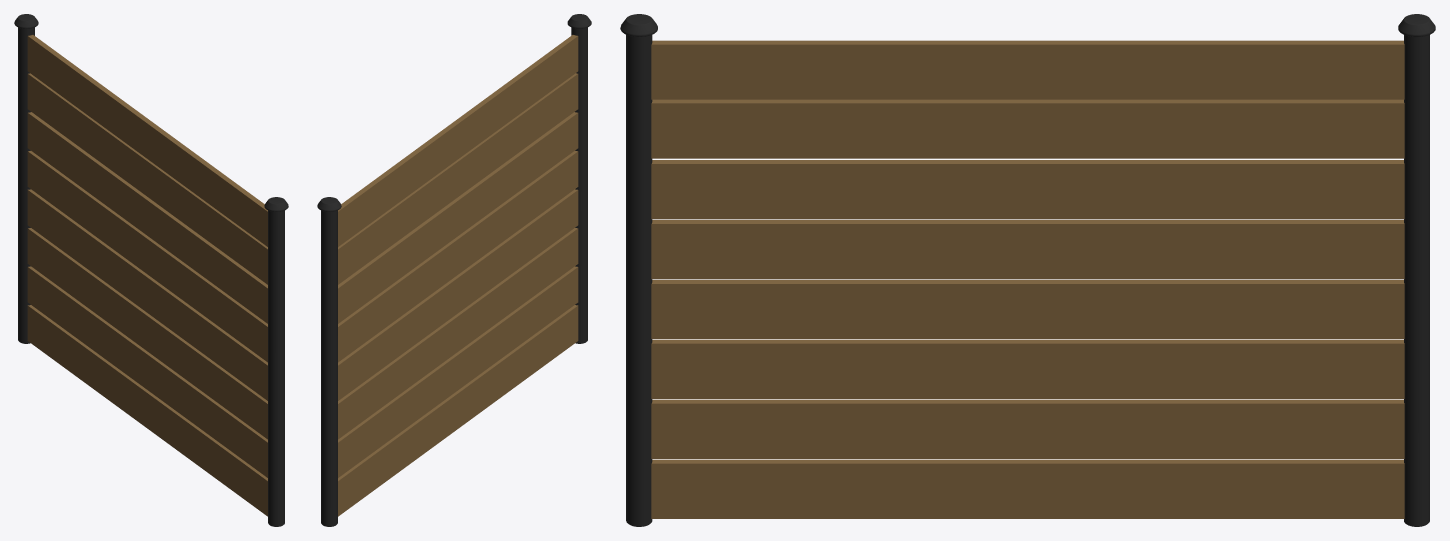
Rendered from Fence.fbx.
3 renders of one model, left to right at view 1: azimuth 30°, elevation 25°; view 2: azimuth 150°, elevation 25°; view 3: azimuth 270°, elevation 25°, orthographic. The views are drawn at different scales.
Parts seen in each view (by area): view 1: Fence2:group5pasted__TallFence; view 2: Fence2:group5pasted__TallFence; view 3: Fence2:group5pasted__TallFence.
Boxes of the visible parts, <box> form: Fence2:group5pasted__TallFence: <box>14,14,288,526</box>; Fence2:group5pasted__TallFence: <box>317,14,591,526</box>; Fence2:group5pasted__TallFence: <box>620,14,1435,526</box>.
Bounding box in the file's own units: 1.01 × 14.86 × 21.83.
